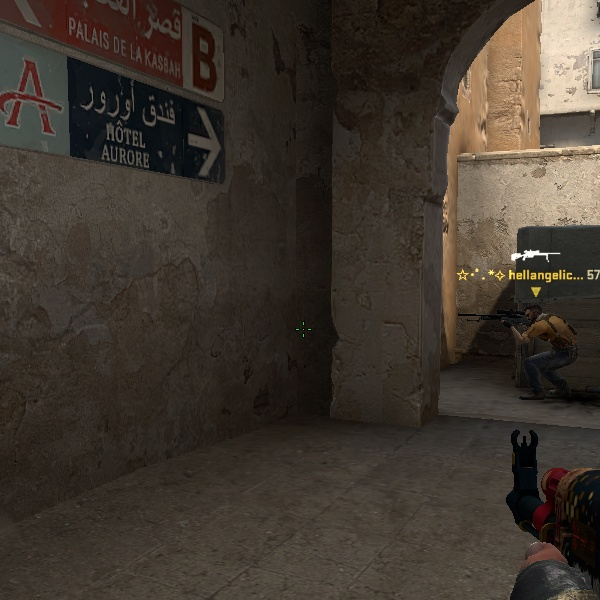t_body: (492, 297, 589, 408)
t_head: (519, 300, 551, 329)
